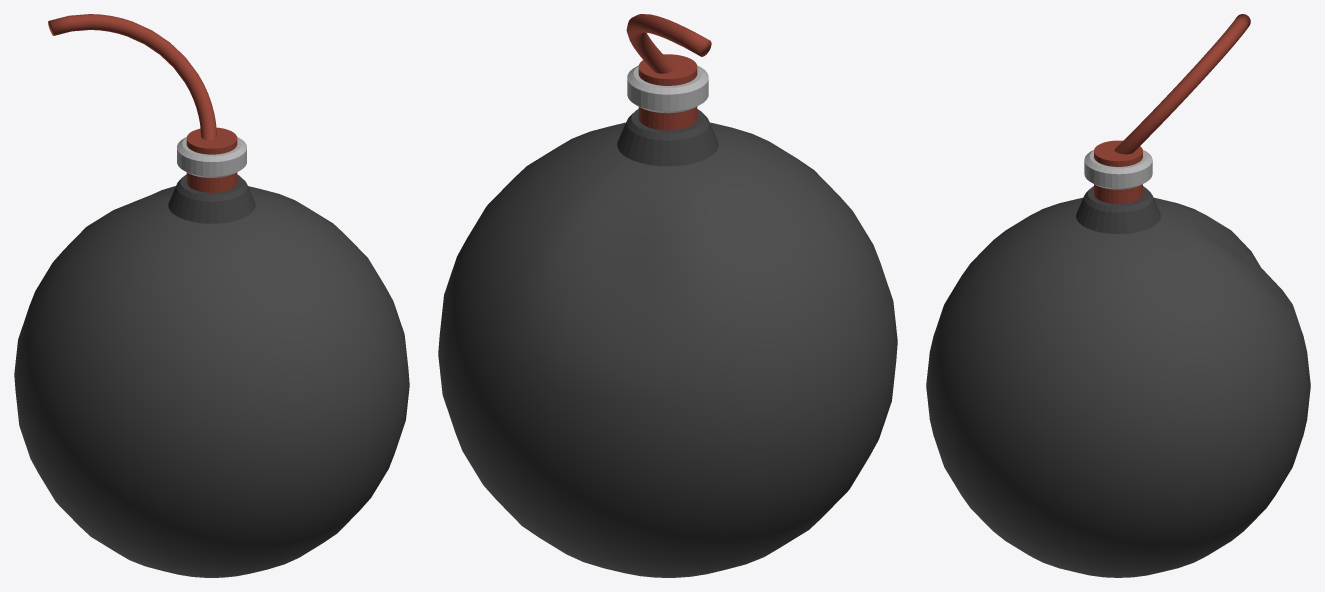
The model's file is Bomb.fbx.
The picture shows the model from 3 angles, left to right: view 1: azimuth 30°, elevation 25°; view 2: azimuth 150°, elevation 25°; view 3: azimuth 270°, elevation 25°; orthographic projection. The views are drawn at different scales.
Parts seen in each view (by area): view 1: Parented Bomb, Cylinder.003, Cylinder.001, Cylinder.002, Cylinder; view 2: Parented Bomb, Cylinder.001, Cylinder.003, Cylinder.002, Cylinder; view 3: Parented Bomb, Cylinder.003, Cylinder.001, Cylinder.002, Cylinder.
Part boxes in pixels (left/top/right/bottom): Parented Bomb: left=14, top=186, right=409, bottom=577; Cylinder.003: left=48, top=14, right=216, bottom=140; Cylinder.001: left=168, top=174, right=255, bottom=223; Cylinder.002: left=177, top=137, right=246, bottom=177; Cylinder: left=186, top=127, right=237, bottom=192; Parented Bomb: left=438, top=122, right=897, bottom=577; Cylinder.001: left=617, top=109, right=718, bottom=166; Cylinder.003: left=626, top=14, right=711, bottom=73; Cylinder.002: left=627, top=65, right=708, bottom=113; Cylinder: left=638, top=54, right=697, bottom=130; Parented Bomb: left=926, top=197, right=1310, bottom=577; Cylinder.003: left=1114, top=14, right=1250, bottom=154; Cylinder.001: left=1076, top=186, right=1160, bottom=233; Cylinder.002: left=1084, top=150, right=1152, bottom=189; Cylinder: left=1094, top=140, right=1142, bottom=203.
Bounding box in the file's own units: 75.41 × 109 × 75.41.
